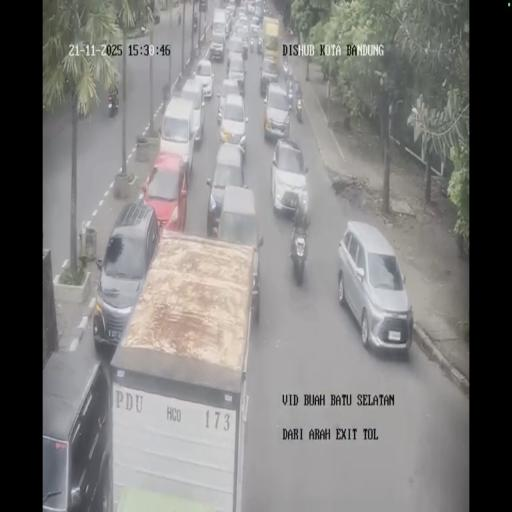car: (93, 201, 160, 352), (340, 220, 414, 350), (206, 143, 246, 236), (158, 95, 198, 175), (270, 136, 308, 220), (263, 81, 291, 143), (217, 78, 244, 126), (194, 58, 214, 98), (226, 36, 244, 74), (282, 58, 296, 100), (237, 19, 250, 50), (224, 4, 236, 34), (250, 18, 261, 50), (246, 0, 256, 15)
motorcycle: (289, 213, 310, 282), (108, 86, 118, 116), (192, 10, 198, 31)
truck: (262, 15, 280, 72), (210, 10, 227, 60)
